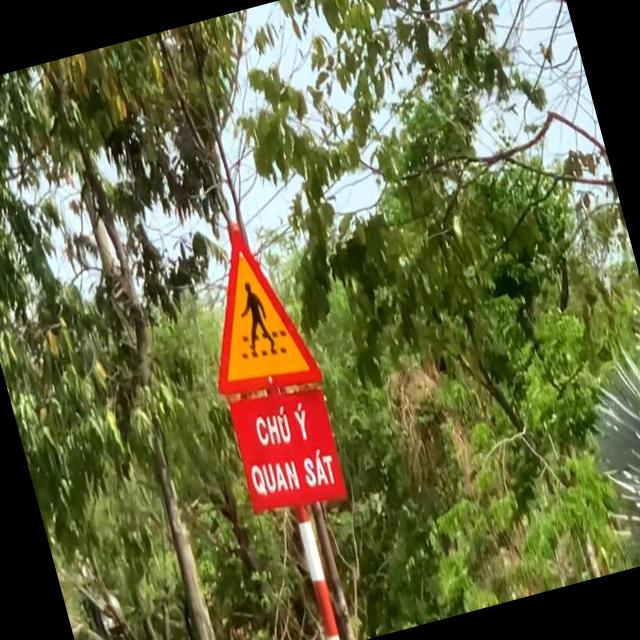W-224: (176, 212, 324, 412)
